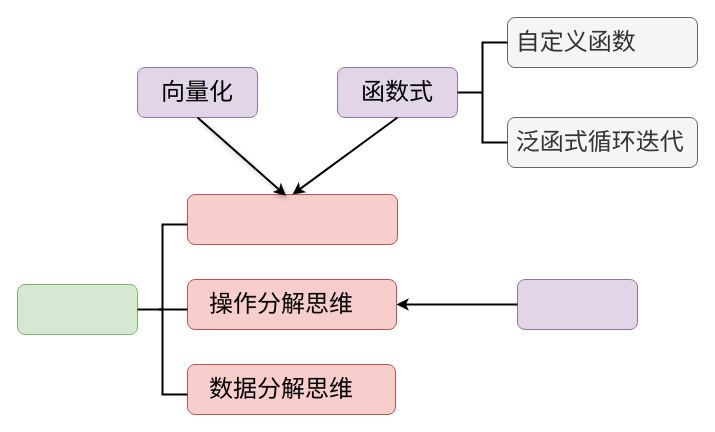
The diagram is 715 pixels wide and 432 high, and some of its shapes have lost their labels. Each missing label, with the centre of its shape:
"操作数据框思维" belongs at (292,219).
"数据思维" belongs at (77,309).
"管道" belongs at (577,304).
